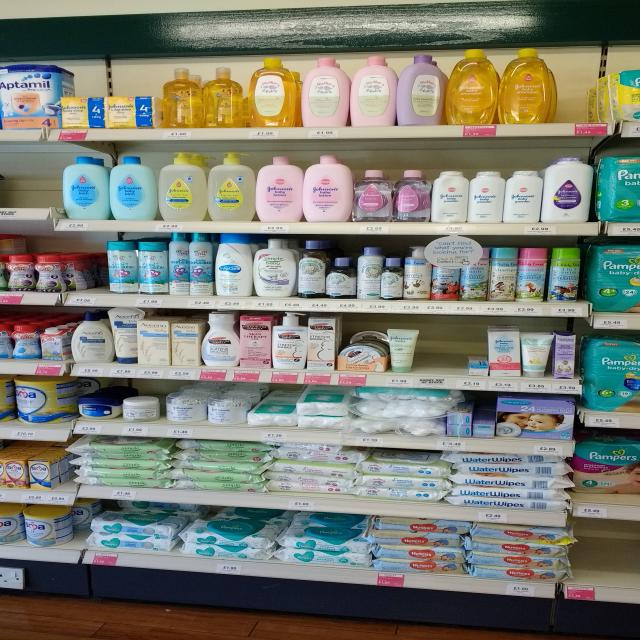void: (579, 522, 640, 603), (2, 144, 55, 232), (560, 52, 601, 144), (420, 317, 469, 389)
